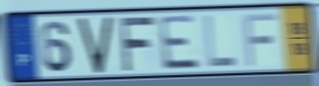6: (40, 20, 74, 74)
E: (157, 13, 203, 72)
F: (117, 14, 156, 73), (241, 12, 279, 69)
L: (203, 13, 239, 70)
V: (76, 14, 115, 76)
